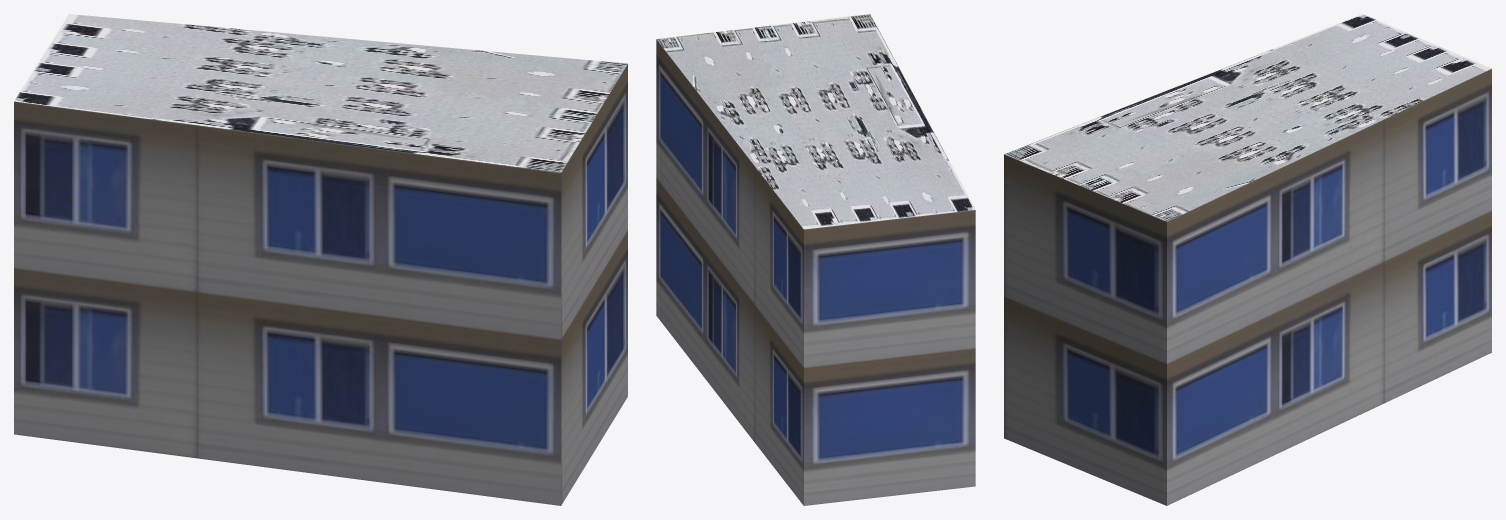
File: ResTex__4880.fbx
3 renders of one model, left to right at view 1: azimuth 30°, elevation 25°; view 2: azimuth 150°, elevation 25°; view 3: azimuth 270°, elevation 25°, orthographic. The views are drawn at different scales.
Parts seen in each view (by area): view 1: CityEngineMaterial_23_m, CityEngineMaterial_m; view 2: CityEngineMaterial_23_m, CityEngineMaterial_m; view 3: CityEngineMaterial_23_m, CityEngineMaterial_m.
Part boxes in pixels (x1,y1,x2,y2): CityEngineMaterial_23_m: [14, 64, 627, 505]; CityEngineMaterial_m: [14, 14, 627, 172]; CityEngineMaterial_23_m: [656, 39, 975, 505]; CityEngineMaterial_m: [656, 14, 975, 229]; CityEngineMaterial_23_m: [1004, 68, 1491, 505]; CityEngineMaterial_m: [1004, 14, 1491, 221].
Size of the model in its own units: 9.42 by 6 by 9.34.
Materials: 2 (2 with a texture image).
